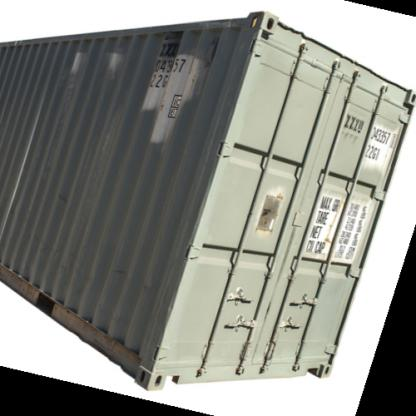Damage: (140, 52, 204, 144), (57, 44, 94, 87), (252, 187, 282, 236), (102, 44, 138, 78), (103, 258, 144, 282), (52, 188, 72, 207)
